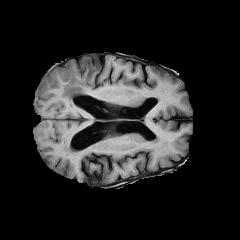glioma: (61, 64, 98, 107)
